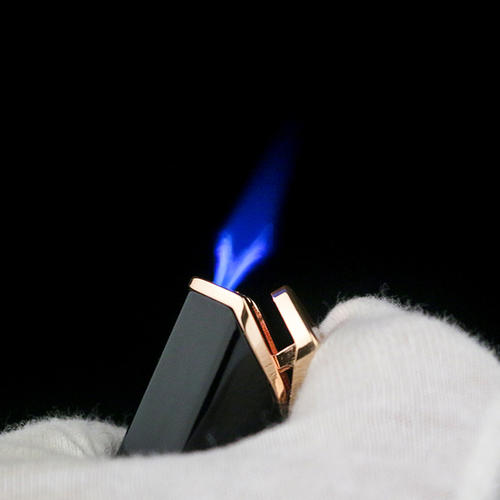fire: (198, 175, 307, 286)
